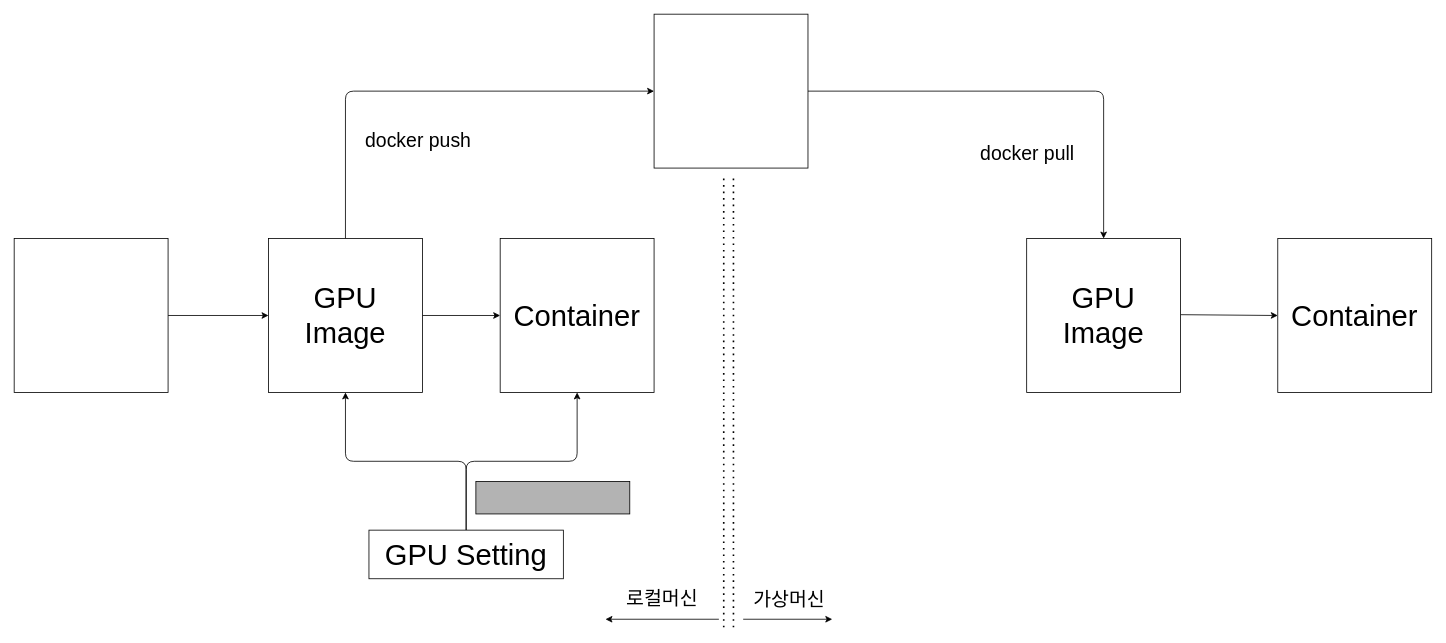
Some shapes in this 1446 by 643 pixel diagram are drawn without their labels. Each missing label, with the centre of its shape:
Dockerfile: the point at 90,315
Registry: the point at 730,90
필수조건은 아님: the point at 552,497
